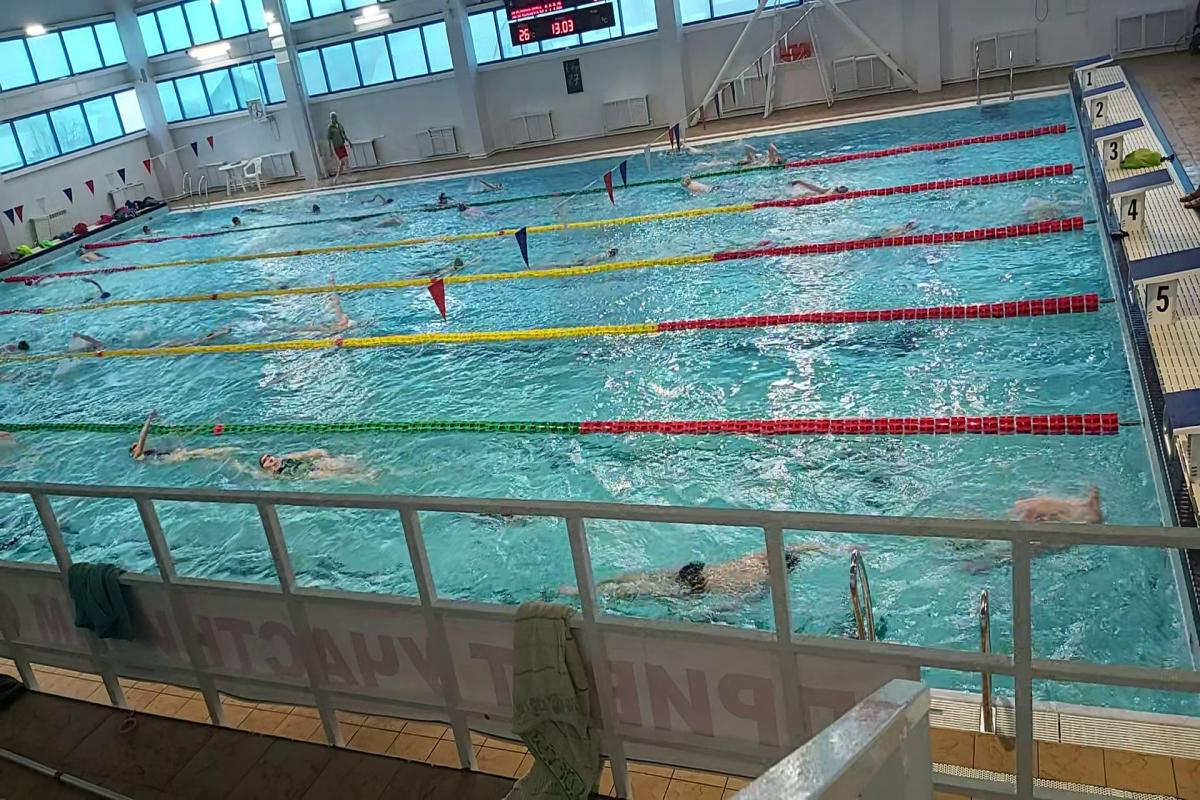swimmer: (560, 542, 810, 613), (957, 486, 1099, 576), (253, 440, 388, 489), (122, 427, 241, 468), (315, 298, 372, 336), (780, 175, 852, 195), (858, 217, 924, 238), (678, 172, 734, 195), (569, 244, 628, 264), (420, 255, 469, 278), (452, 201, 492, 217)
